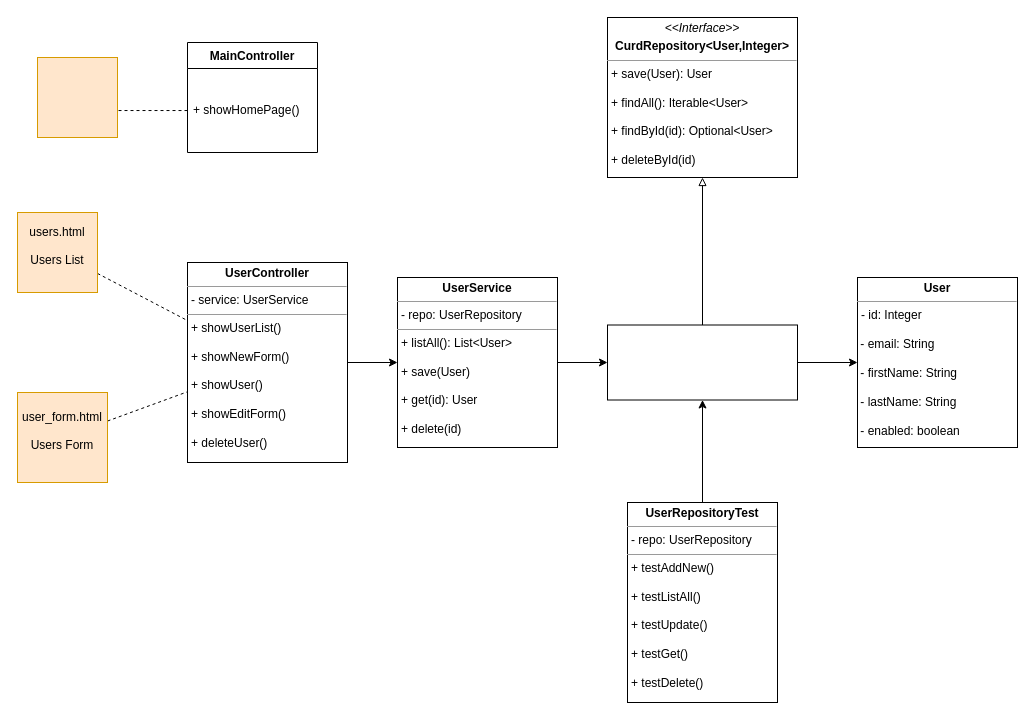
Image size: 1035x720. Some labels were removed from this diagram. The shapes that lost their labels are listed below. From the top down, each one's centre as x and y in pixels, then its label:
At pixel 77 97: "index.html Home Page".
At pixel 702 362: "<<Interface>> UserRepository + countById(id): Long".
